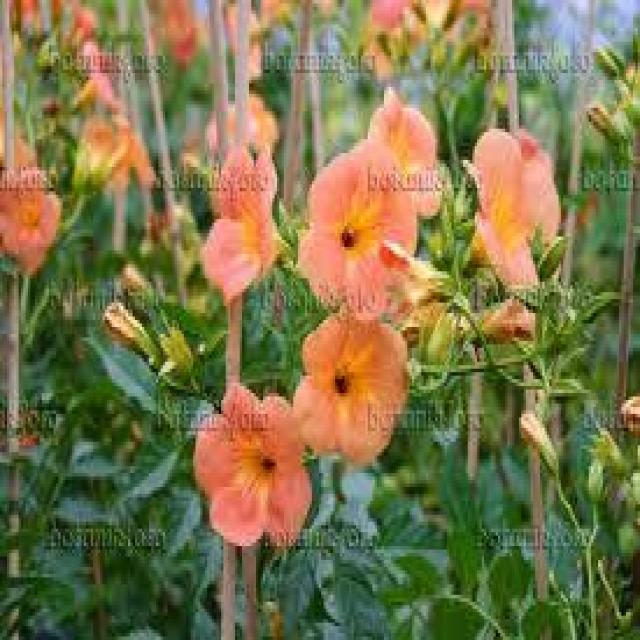organic waste: (172, 382, 324, 556), (302, 141, 426, 325), (303, 303, 414, 473), (200, 125, 298, 299), (469, 136, 564, 306), (357, 85, 453, 242), (6, 165, 66, 273)
